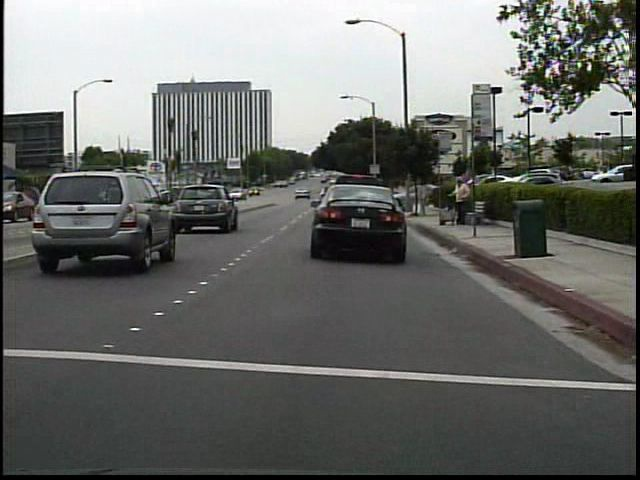person: (447, 173, 475, 227), (413, 175, 436, 220)
